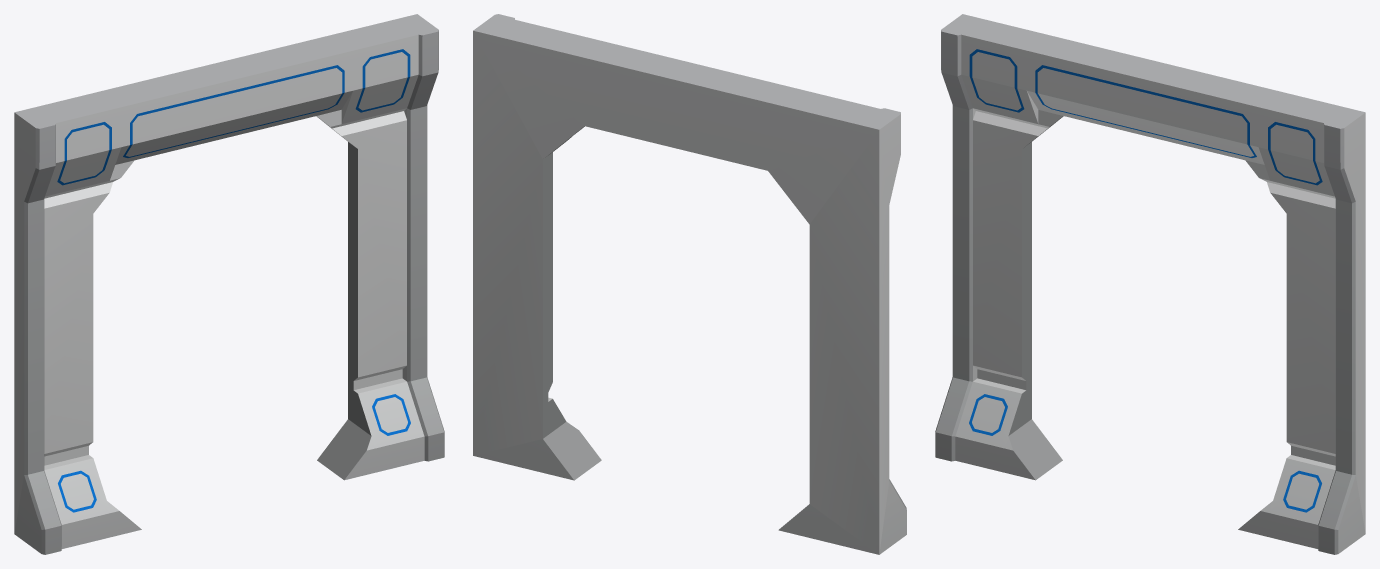
Rendered from Wall_type_A_060.fbx.
3 renders of one model, left to right at view 1: azimuth 30°, elevation 25°; view 2: azimuth 150°, elevation 25°; view 3: azimuth 330°, elevation 25°, orthographic.
Parts seen in each view (by area): view 1: Wall_type_A_060; view 2: Wall_type_A_060; view 3: Wall_type_A_060.
Boxes of the visible parts, x1,y1,x2,y2 form: Wall_type_A_060: (14, 14, 444, 554); Wall_type_A_060: (473, 14, 906, 554); Wall_type_A_060: (935, 14, 1365, 554).
Size of the model in its own units: 400 by 50 by 400.
